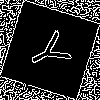Y: (25, 25, 81, 76)
